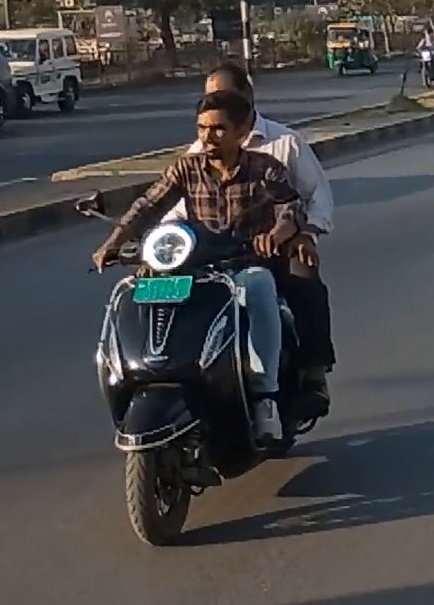BikeWithRider: (58, 49, 358, 556)
NoHelmet: (186, 88, 252, 165), (195, 60, 262, 129)
